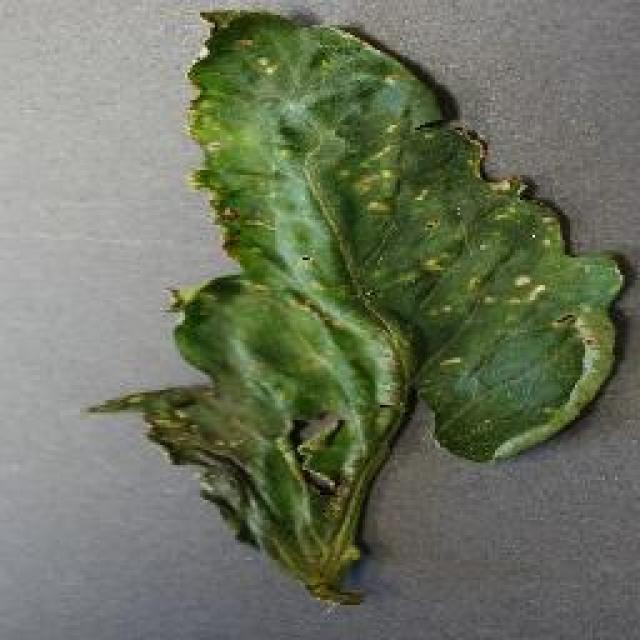Tomato bacterial spot leaf: (87, 11, 625, 596)
